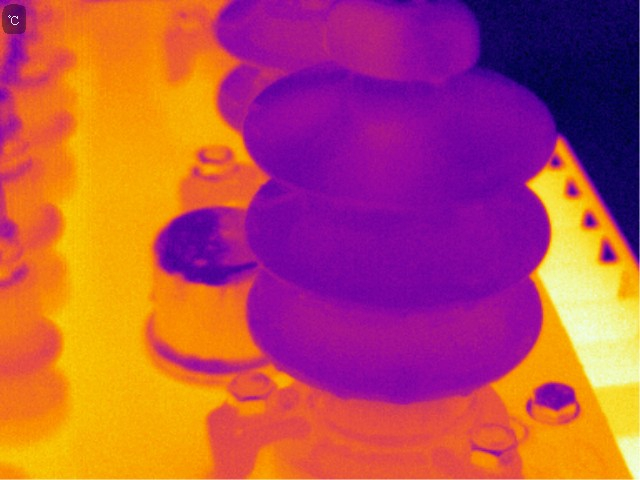Oil: (320, 1, 414, 87), (361, 111, 410, 148)
